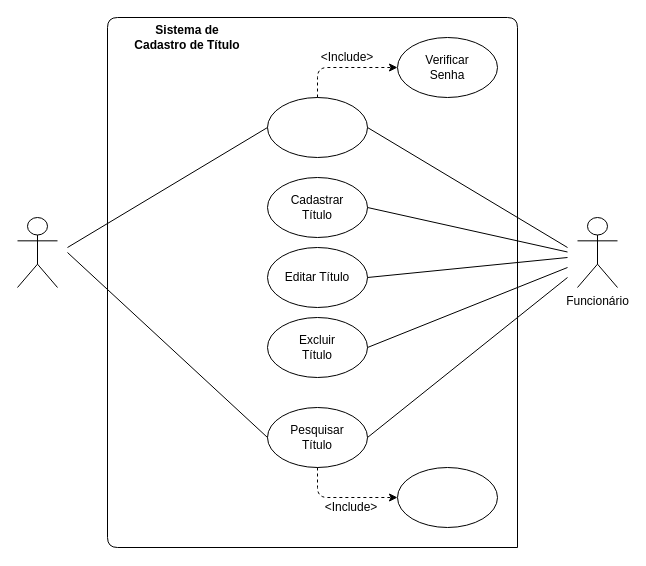
The diagram is 646 pixels wide and 566 high, and some of its shapes have lost their labels. The centre of each missing label's shape, as x and y in pixels:
"Login" belongs at [317,127].
"Usuário" belongs at [37,252].
"Verificar se está cadastrado" belongs at [447,497].
